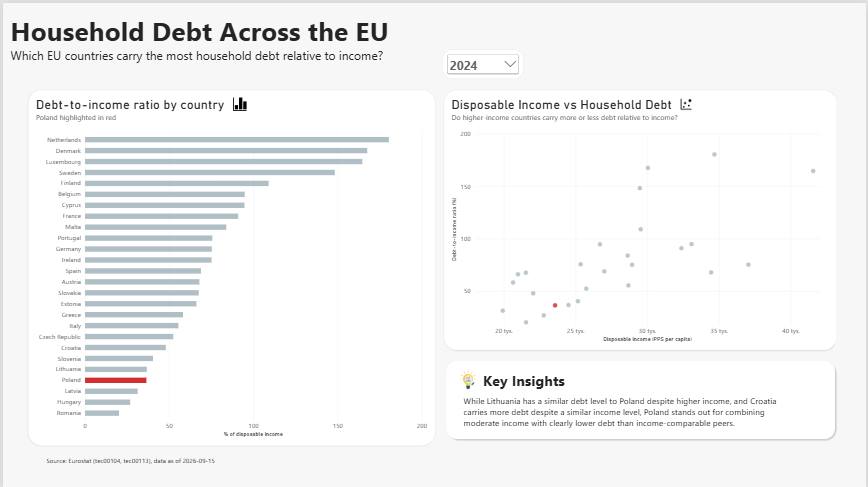

This screenshot's page, from the dashboard's own definition file:
{"tool":"powerbi","page":{"name":"Country Comparison","canvas":[1920,1080],"ordinal":2},"visuals":[{"type":"textbox","box":[17,20,1335,117],"z":0},{"type":"barChart","title":"Debt-to-income ratio by country","fields":{"Category":["tec00104_debt_to_income.country"],"Y":["tec00104_debt_to_income.CurrentValue_All"]},"box":[56.7,193.3,903.3,790],"z":1000},{"type":"scatterChart","title":"Disposable Income vs Household Debt","fields":{"Series":["tec00104_debt_to_income.country"],"X":["tec00104_debt_to_income.DisposableIncome_Current"],"Y":["tec00113_disposable_income.DebtToIncome_ForScatter"]},"box":[980,194,872,578],"z":2000},{"type":"slicer","fields":{"Values":["tec00104_debt_to_income.year"]},"box":[976,104,180,65],"z":3000},{"type":"textbox","box":[95,1007,380,25],"z":4000},{"type":"image","box":[475.7,210,98.9,30],"z":5000},{"type":"image","box":[1501.8,210.9,30,30],"z":6000},{"type":"shape","box":[979.3,791.3,874,184],"z":7000},{"type":"image","box":[1011.3,816.3,47,41],"z":8000},{"type":"textbox","box":[1067,815.9,244.3,64.3],"z":9000},{"type":"textbox","box":[1022.8,868.8,747.1,85.7],"z":10000}]}

Visuals, with their boxes in screenshot pixels (x1, y1, x2, y2), scaled from the page's 1920x1080 canvas onto the 868x487 screenshot:
textbox: bbox=[8, 9, 611, 62]
"Debt-to-income ratio by country" barChart: bbox=[26, 87, 434, 443]
"Disposable Income vs Household Debt" scatterChart: bbox=[443, 87, 837, 348]
slicer - tec00104_debt_to_income.year: bbox=[441, 47, 523, 76]
textbox: bbox=[43, 454, 215, 465]
image: bbox=[215, 95, 260, 108]
image: bbox=[679, 95, 693, 109]
shape: bbox=[443, 357, 838, 440]
image: bbox=[457, 368, 478, 387]
textbox: bbox=[482, 368, 593, 397]
textbox: bbox=[462, 392, 800, 430]
